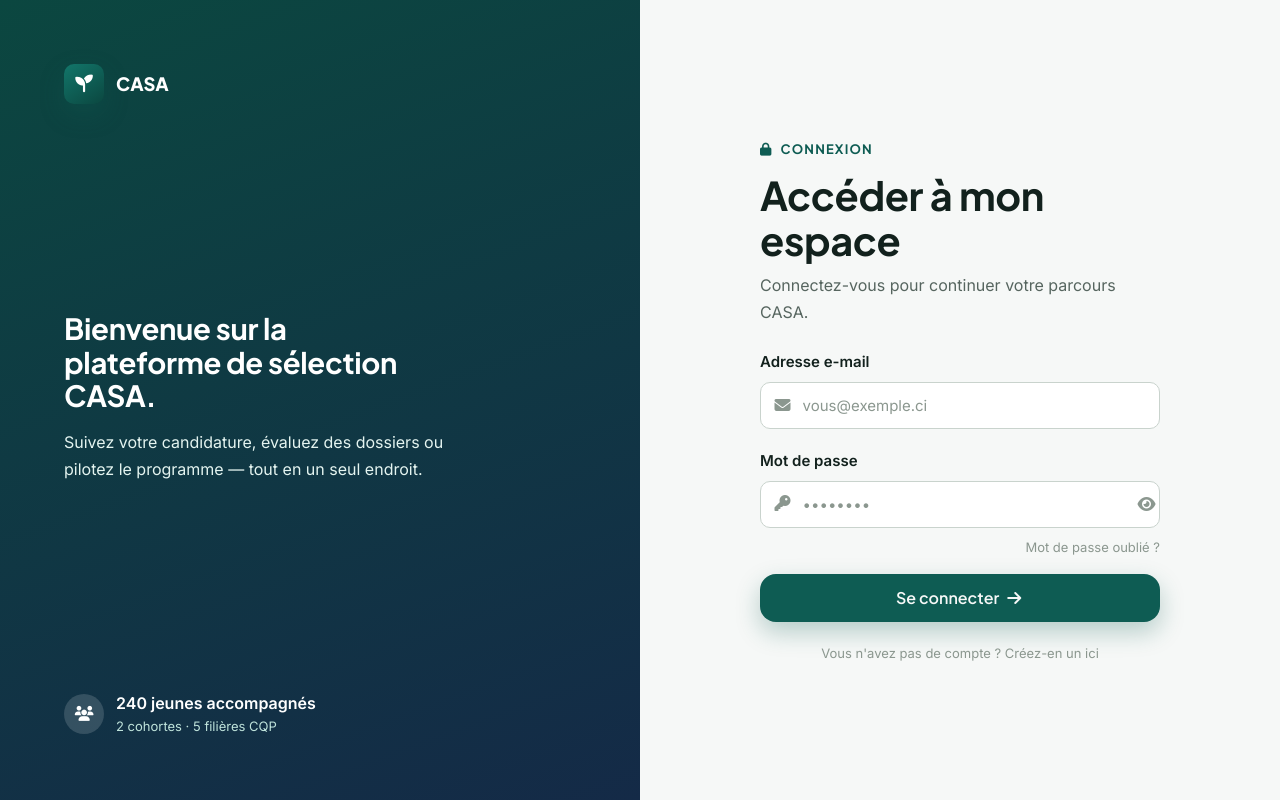
Test case: LoginPage › échec 422 -> affiche le message générique du backend, pas de redirection
This screenshot has width=1280, height=800.
Type "x@y.ci" into the field labelled "Adresse e-mail".
click(960, 406); type("x@y.ci")  # box [760,382,1160,429]
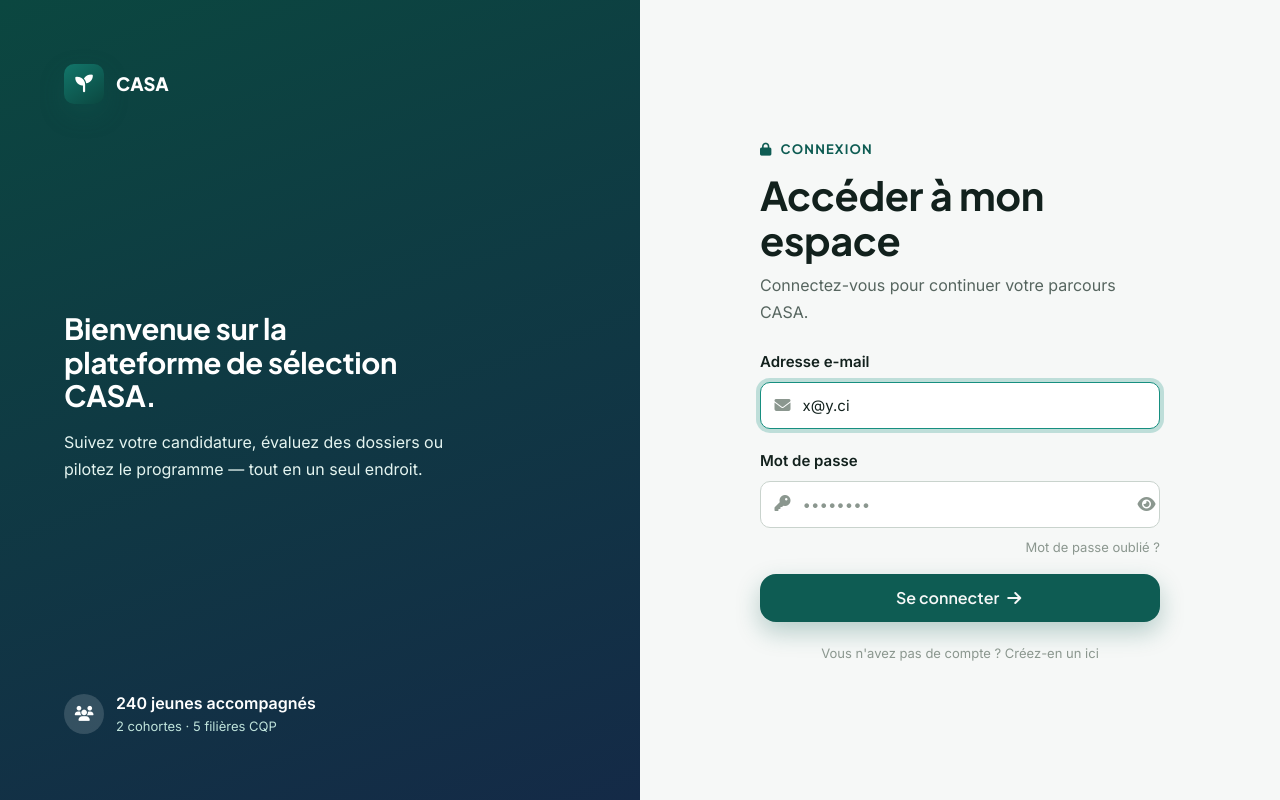
Type "faux" into the password field labelled "Mot de passe".
click(960, 504); type("faux")  # box [760,481,1160,528]
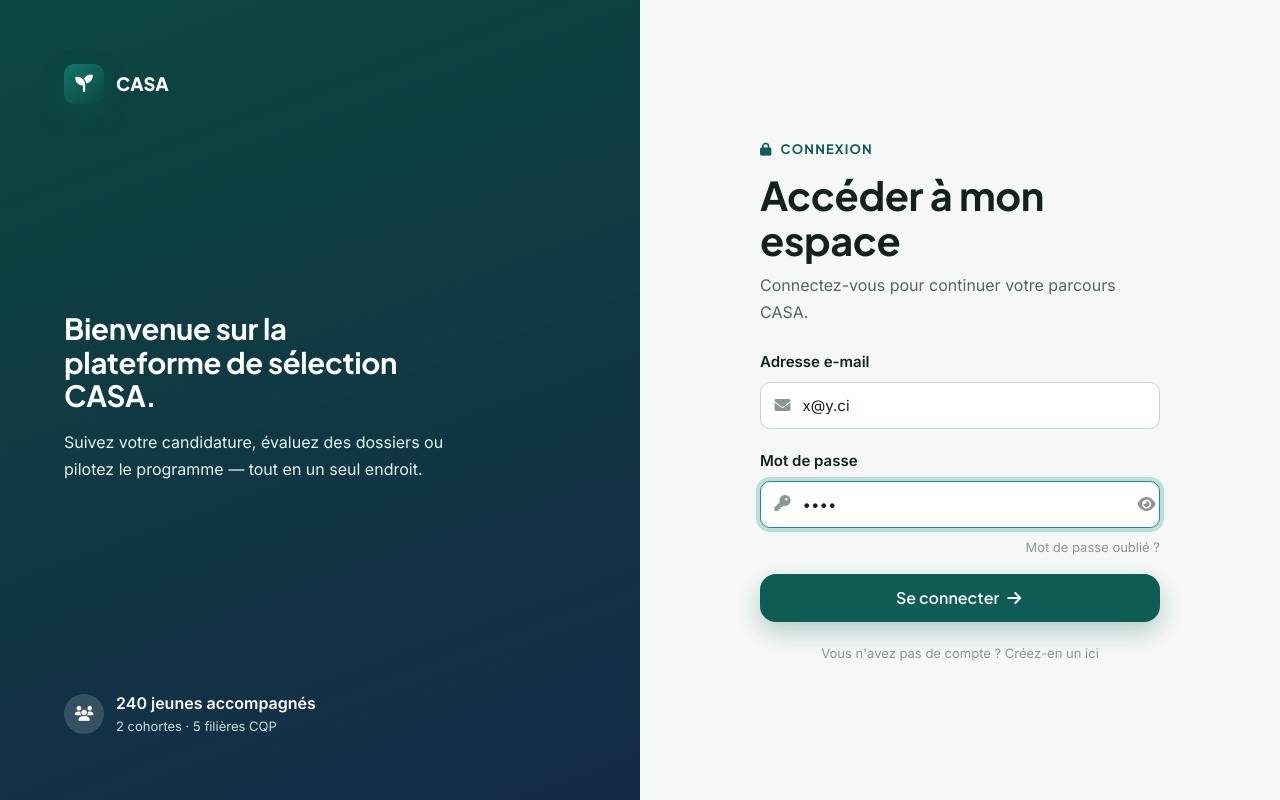
Click the button "Se connecter".
click(960, 598)  # box [760,574,1160,622]
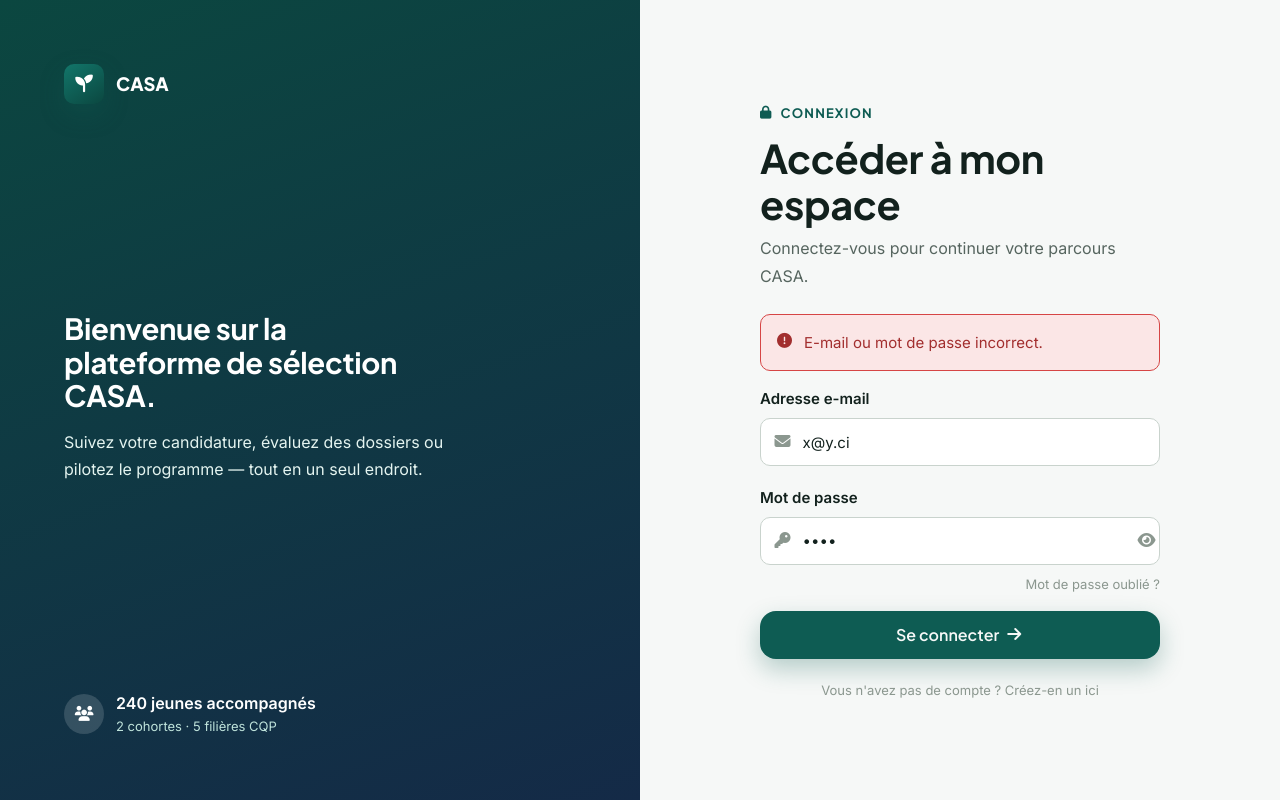
Check: the message reads "E-mail ou mot de passe incorrect.", box [804,333,1043,352]
